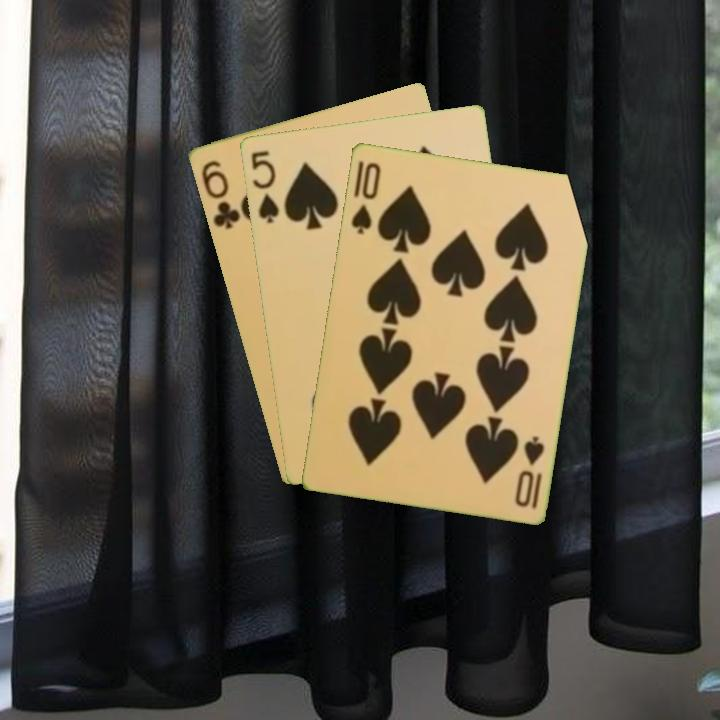10s: (511, 432, 547, 512), (347, 158, 383, 237)
5s: (247, 146, 282, 226)
6c: (197, 156, 243, 232)
